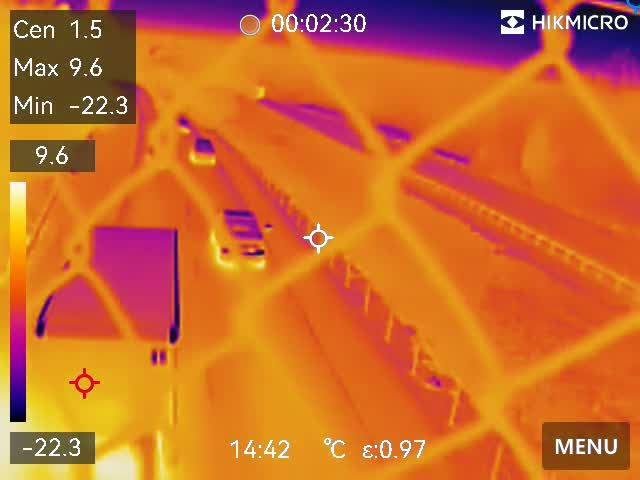heavyTruck: (29, 216, 186, 477)
vehicle: (209, 204, 273, 275), (189, 137, 222, 170), (175, 113, 194, 139)
